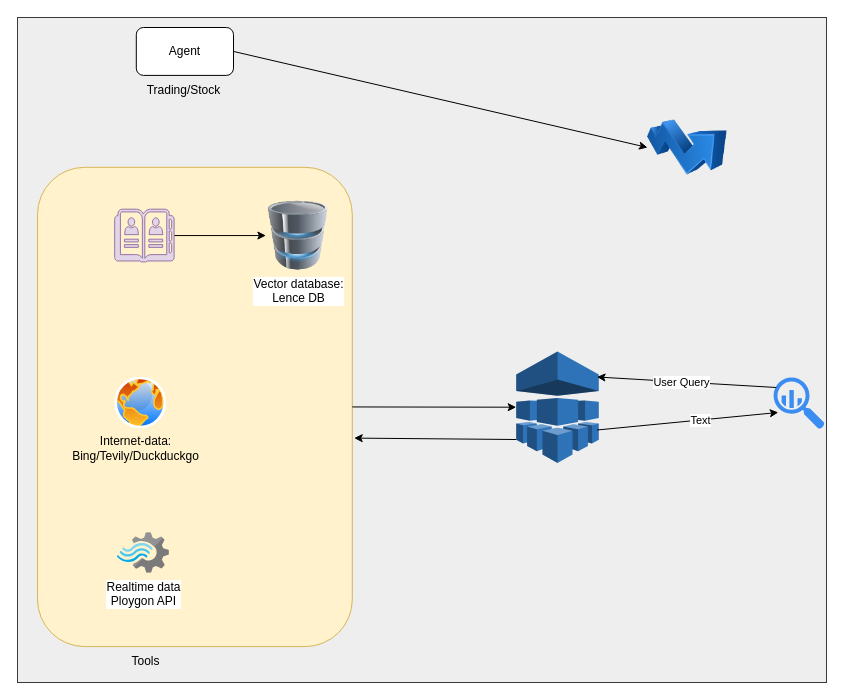
Image size: 844x700. Some labels were removed from this diagram. Here are the shapes that lost their labels. From the top down, the centre of each, then its label:
the point at 144,235: Own knowlege base: Document
the point at 557,406: LLM (Groq,OpenAI,Gemini)
